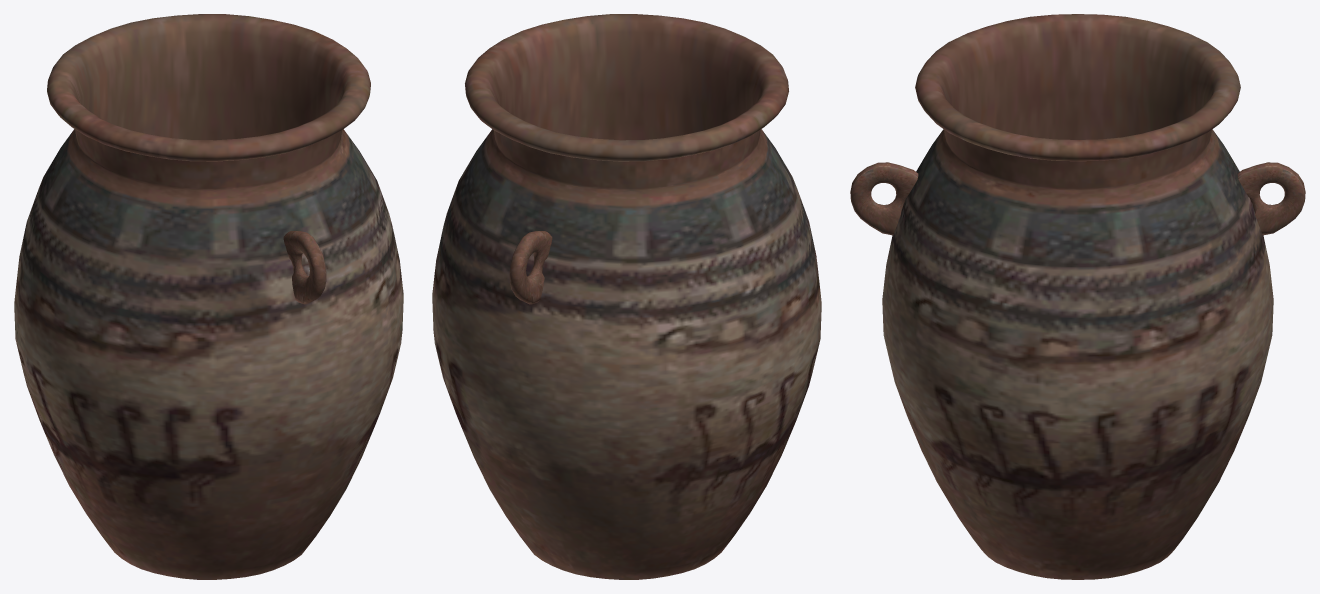
The model's file is JarronFBX.fbx.
3 renders of one model, left to right at view 1: azimuth 30°, elevation 25°; view 2: azimuth 150°, elevation 25°; view 3: azimuth 270°, elevation 25°, orthographic.
Parts seen in each view (by area): view 1: Jarron:Mesh; view 2: Jarron:Mesh; view 3: Jarron:Mesh.
Part boxes in pixels (x1,y1,x2,y2): Jarron:Mesh: [14, 14, 403, 579]; Jarron:Mesh: [432, 14, 821, 579]; Jarron:Mesh: [850, 14, 1305, 579].
Bounding box in the file's own units: 0.8017 × 1.06 × 0.9378.
1 material, 1 textured.
